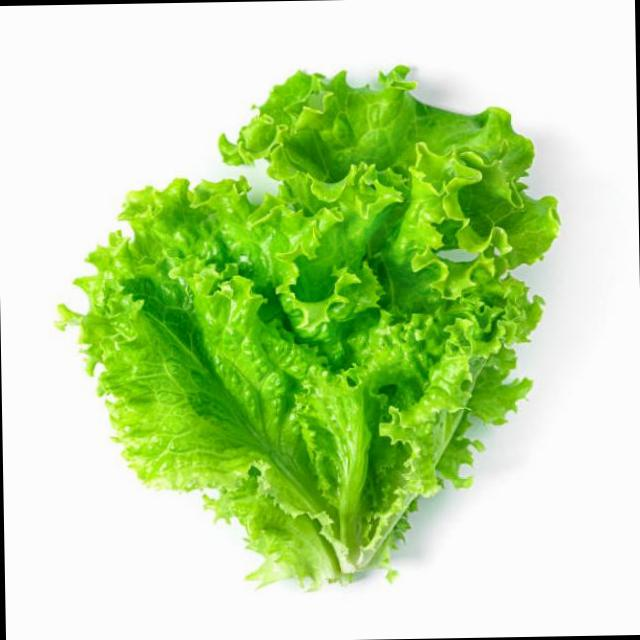Lettuce-Ready-to-Harvest: (60, 66, 558, 585)
